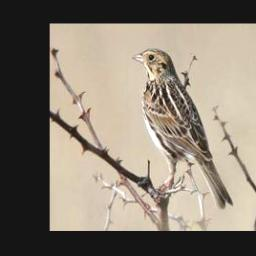Sparrow: (129, 44, 237, 215)
